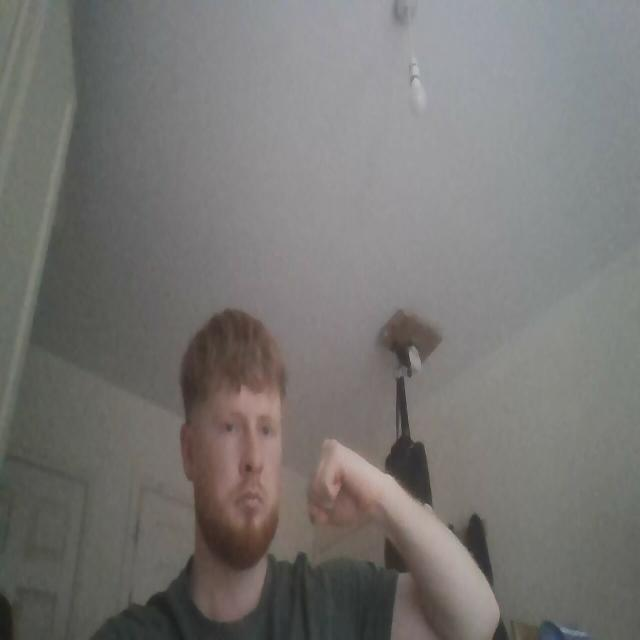rock: (303, 434, 390, 538)
